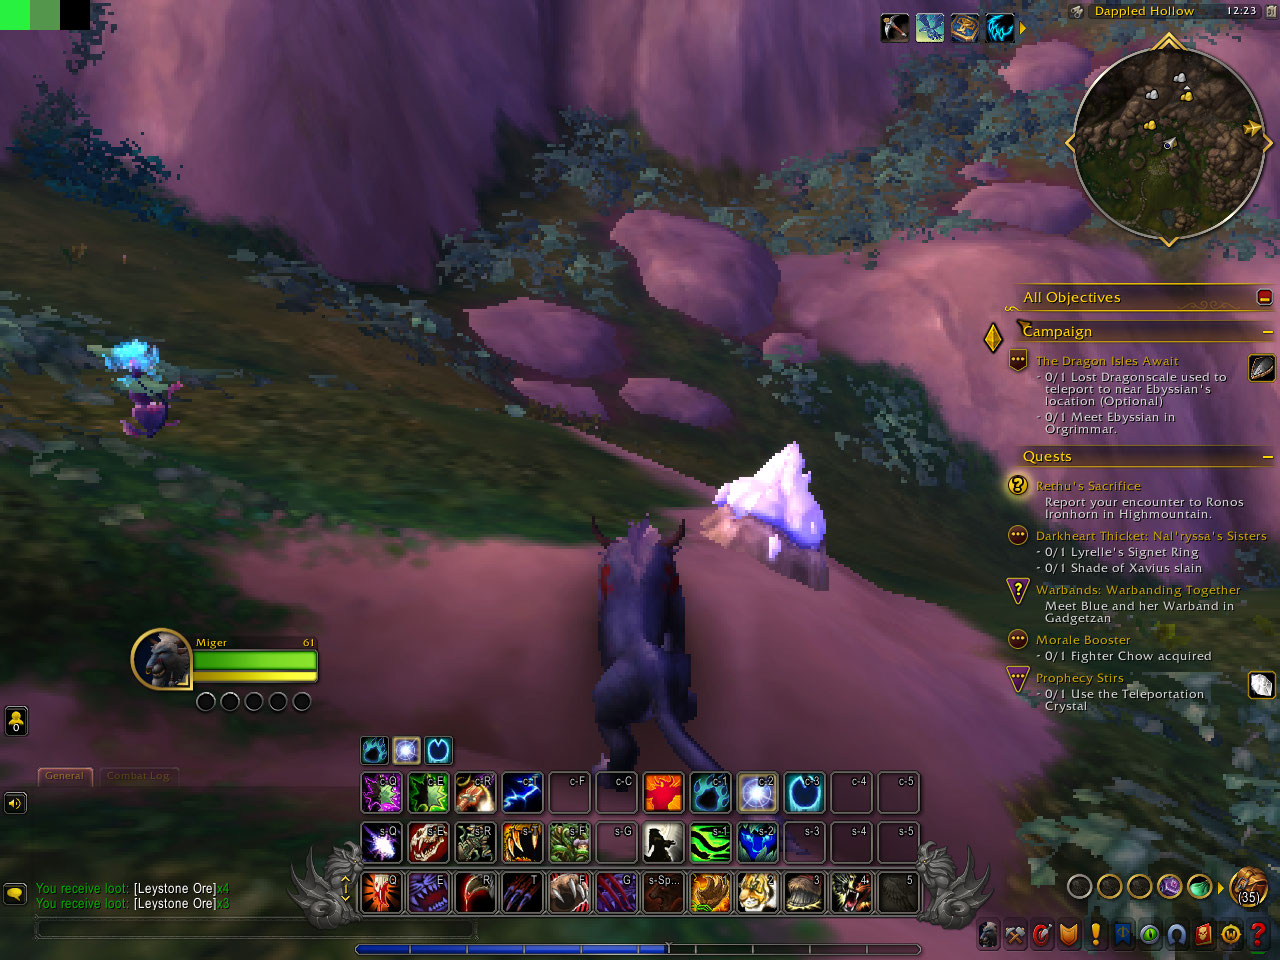ore: (698, 440, 833, 596)
